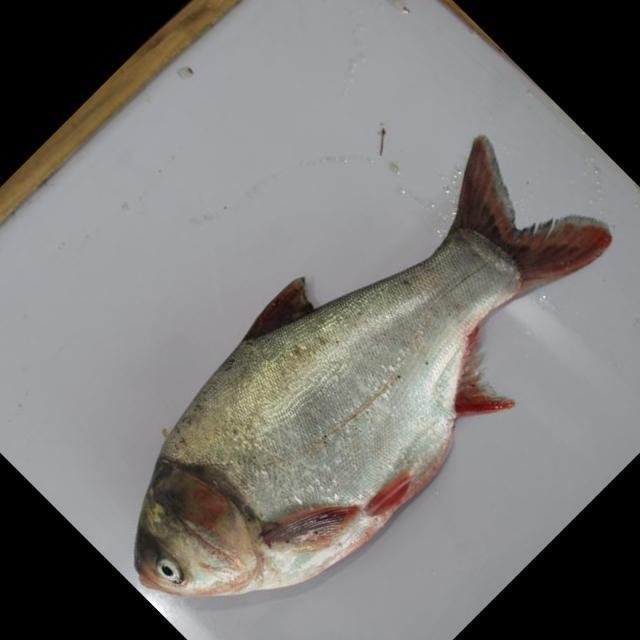SilverCarp: (65, 122, 601, 604)
